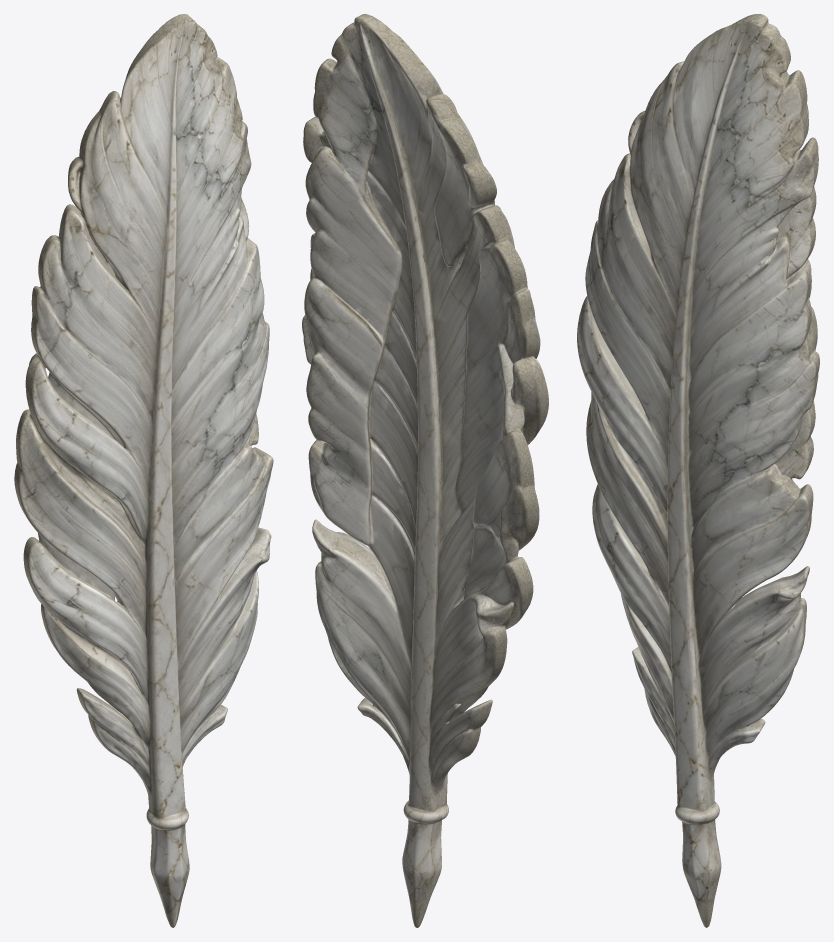
The model's file is blog-pluma.glb.
3 views of the same model, side by side, from view 1: azimuth 30°, elevation 25°; view 2: azimuth 150°, elevation 25°; view 3: azimuth 330°, elevation 25° (orthographic). The views are drawn at different scales.
Size of the model in its own units: 0.5309 by 1.9 by 0.1637.
Materials: 1 (1 with a texture image).
